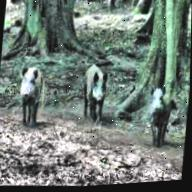boar: (72, 58, 127, 138), (10, 57, 56, 140), (140, 82, 188, 159)
